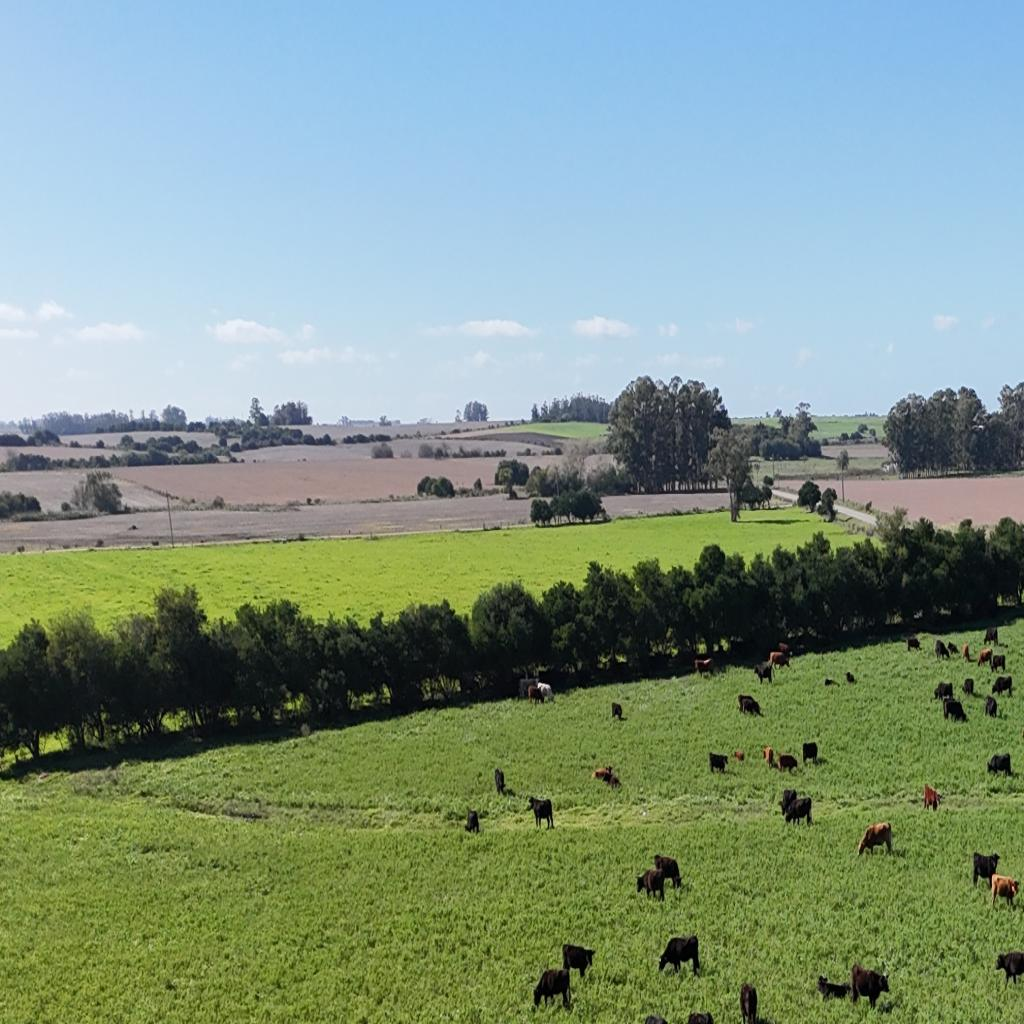cow: (850, 962, 890, 1011), (658, 934, 700, 975), (532, 968, 570, 1011), (858, 822, 894, 857), (562, 943, 595, 979), (990, 873, 1020, 910), (996, 951, 1024, 990), (781, 794, 813, 828), (652, 854, 682, 888), (973, 852, 999, 888), (636, 868, 665, 900), (528, 795, 554, 830), (818, 976, 852, 1000), (740, 981, 757, 1024), (593, 766, 621, 790), (987, 752, 1012, 777), (943, 698, 967, 724), (923, 784, 944, 812), (737, 694, 761, 717), (780, 788, 798, 816), (992, 675, 1014, 697), (754, 662, 774, 686), (776, 753, 798, 774), (709, 752, 729, 774), (934, 681, 954, 702), (802, 742, 818, 766), (769, 650, 788, 670), (561, 944, 575, 971), (465, 809, 479, 835), (688, 1010, 714, 1024), (536, 682, 554, 702), (694, 658, 713, 676), (527, 684, 544, 704), (991, 653, 1007, 673), (978, 647, 993, 668), (984, 696, 998, 718), (935, 640, 950, 660), (984, 628, 999, 647), (494, 768, 504, 794), (762, 746, 774, 766), (906, 636, 920, 653), (611, 702, 623, 721), (962, 678, 974, 697), (636, 872, 646, 894), (644, 1014, 667, 1023), (777, 642, 791, 656), (595, 766, 609, 780), (976, 620, 987, 637), (946, 641, 959, 655), (962, 644, 971, 662), (846, 672, 856, 684), (734, 750, 744, 762), (824, 678, 838, 686), (17, 545, 25, 553)
